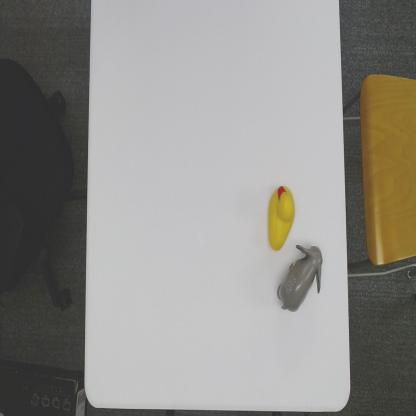Duck: (266, 182, 295, 253)
Elephant: (277, 241, 324, 314)
